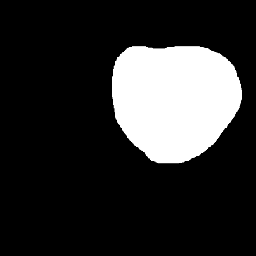mass: (112, 49, 234, 164)
